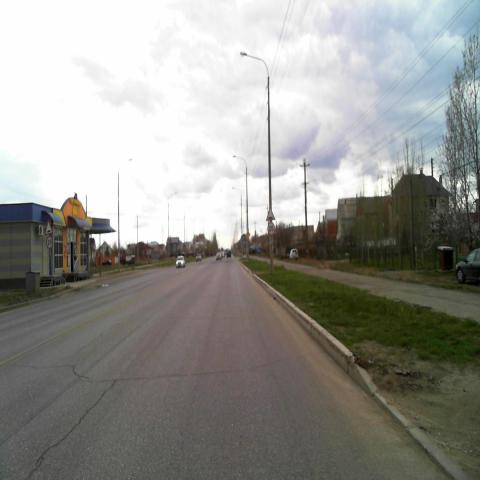1_17: (266, 206, 275, 220)
